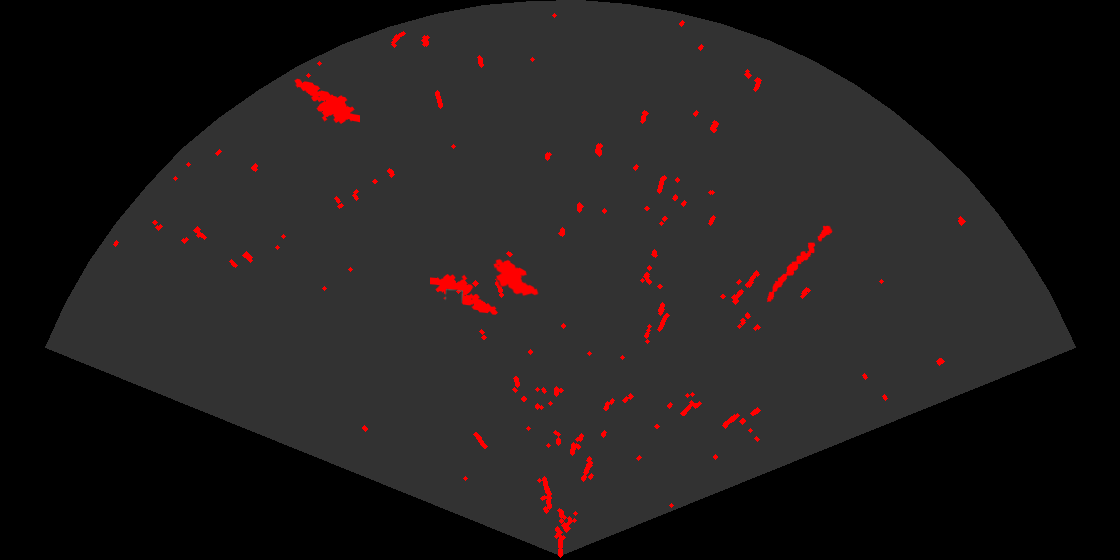AUV: (492, 257, 540, 298)
chain: (765, 224, 834, 304)
frogman: (293, 77, 360, 125), (430, 273, 500, 316)
